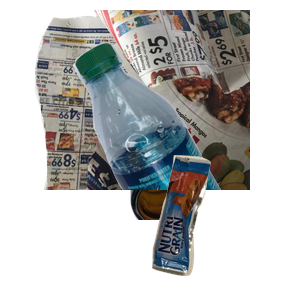glass: (115, 120, 300, 300)
paper: (32, 10, 272, 190)
plastic: (71, 39, 300, 219)
trash: (149, 152, 300, 300)
